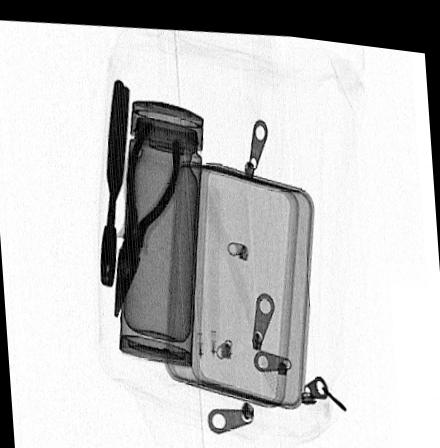Pliers: (113, 113, 181, 314), (99, 73, 131, 284)
